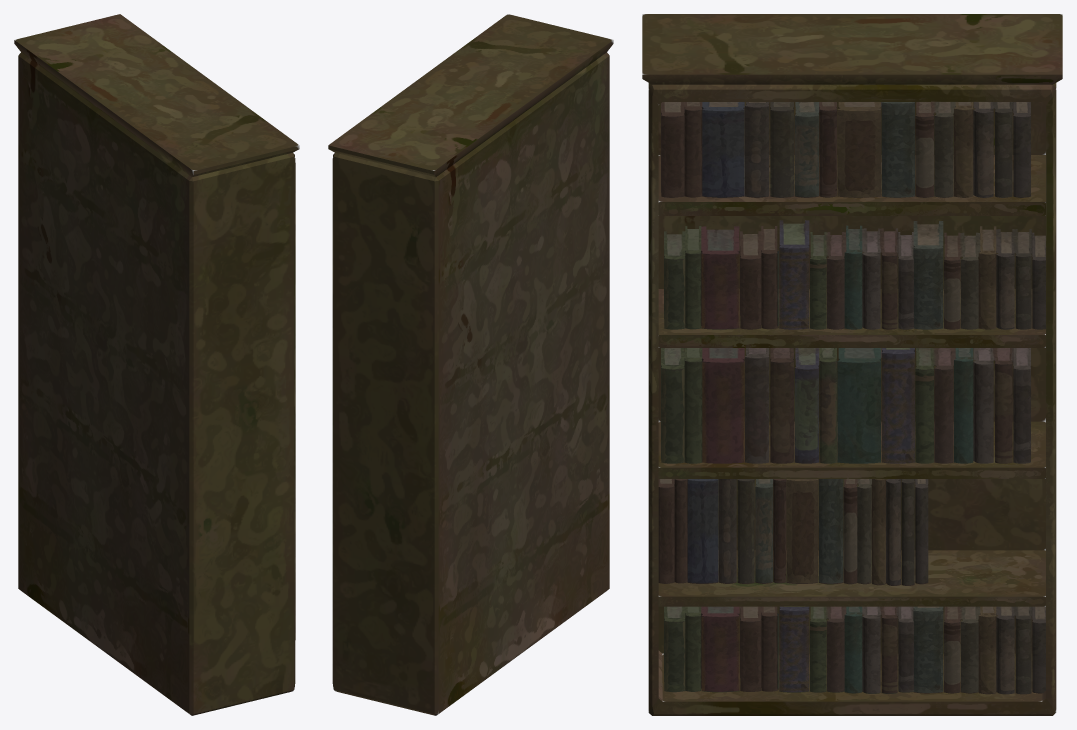
Rendered from bookshelf.fbx.
3 renders of one model, left to right at view 1: azimuth 30°, elevation 25°; view 2: azimuth 150°, elevation 25°; view 3: azimuth 270°, elevation 25°, orthographic. The views are drawn at different scales.
Parts seen in each view (by area): view 1: bookshelf; view 2: bookshelf; view 3: bookshelf.
Boxes of the visible parts, x1=… form: bookshelf: x1=14, y1=14, x2=299, y2=715; bookshelf: x1=328, y1=14, x2=613, y2=715; bookshelf: x1=642, y1=14, x2=1062, y2=715.
Bounding box in the file's own units: 47.47 × 234 × 139.
3 materials, 3 textured.
